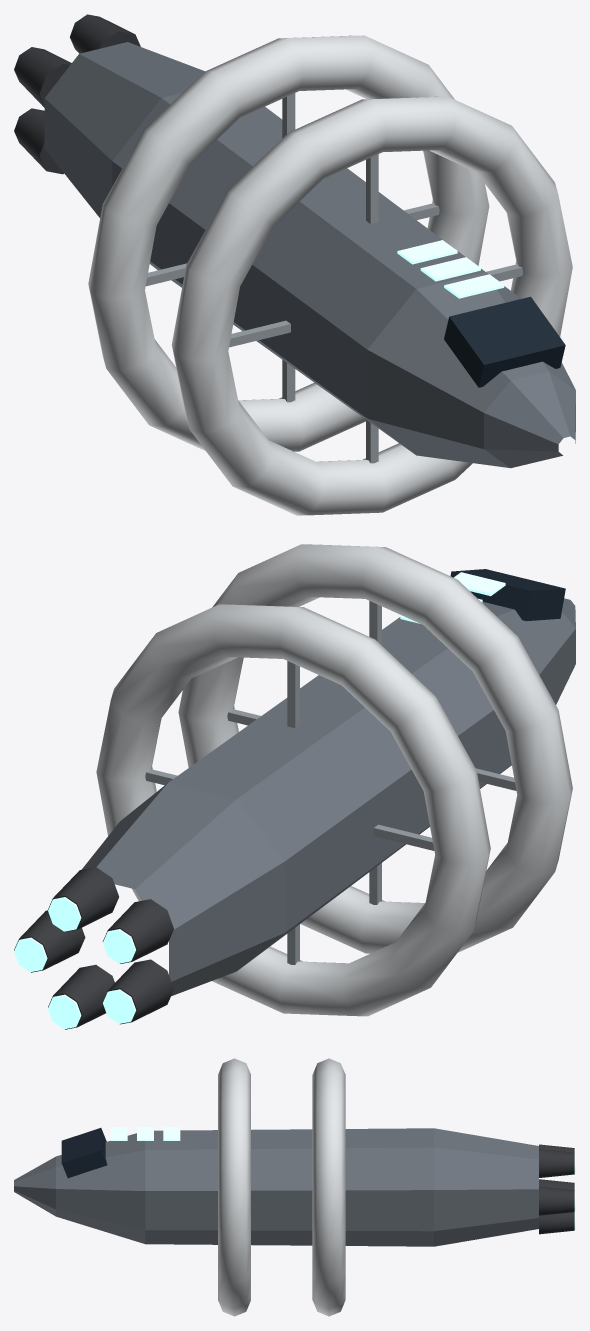
File: space_ship_colony_transport_mk3.glb
3 views of the same model, one above another, from view 1: azimuth 30°, elevation 25°; view 2: azimuth 150°, elevation 25°; view 3: azimuth 270°, elevation 25° (orthographic). The views are drawn at different scales.
Visible parts, largest first — view 1: body, habitat_ring_1, habitat_ring_0, engine_2, engine_1, engine_3; view 2: body, habitat_ring_0, habitat_ring_1, engine_1, engine_2, engine_3, engine_4, engine_0; view 3: body, habitat_ring_0, habitat_ring_1, engine_0, engine_1, engine_4.
Boxes of the visible parts, bbox=[...] form: body: bbox=[44, 42, 575, 468]; habitat_ring_1: bbox=[171, 96, 572, 515]; habitat_ring_0: bbox=[88, 35, 489, 451]; engine_2: bbox=[14, 47, 71, 107]; engine_1: bbox=[70, 14, 140, 53]; engine_3: bbox=[14, 108, 63, 174]; body: bbox=[81, 569, 575, 996]; habitat_ring_0: bbox=[96, 604, 490, 1016]; habitat_ring_1: bbox=[178, 544, 572, 953]; engine_1: bbox=[48, 867, 118, 931]; engine_2: bbox=[102, 899, 173, 963]; engine_3: bbox=[103, 959, 173, 1024]; engine_4: bbox=[48, 964, 114, 1029]; engine_0: bbox=[14, 910, 85, 972]; body: bbox=[14, 1127, 538, 1246]; habitat_ring_0: bbox=[312, 1058, 345, 1316]; habitat_ring_1: bbox=[218, 1058, 250, 1316]; engine_0: bbox=[539, 1186, 575, 1215]; engine_1: bbox=[539, 1149, 575, 1177]; engine_4: bbox=[539, 1211, 575, 1234].
Size of what is drawn, in the model's own units: 24.42 by 24.42 by 53.08.
